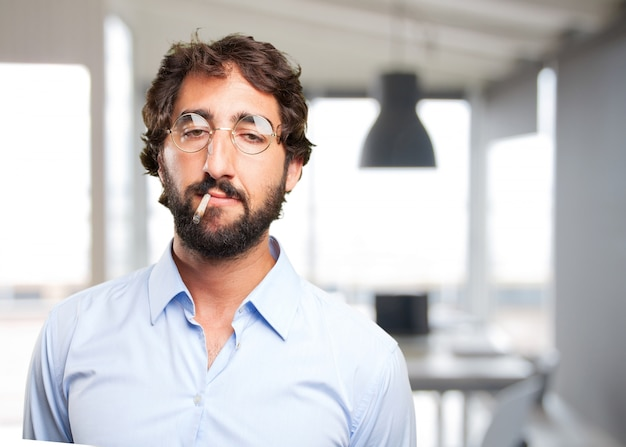cigarette: (189, 194, 213, 226)
